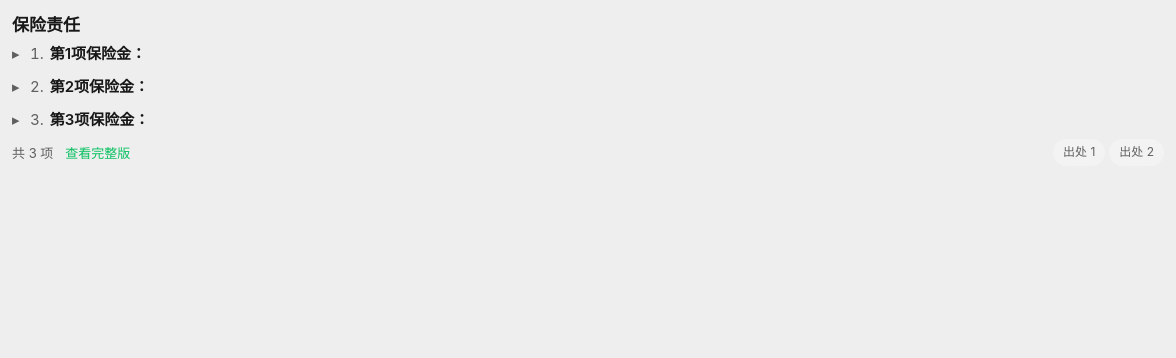
Test: long numbered values › open compact with item names only and switch to the full version and back
Click the button "查看完整版" at (98, 152), box [61,143,134,162]
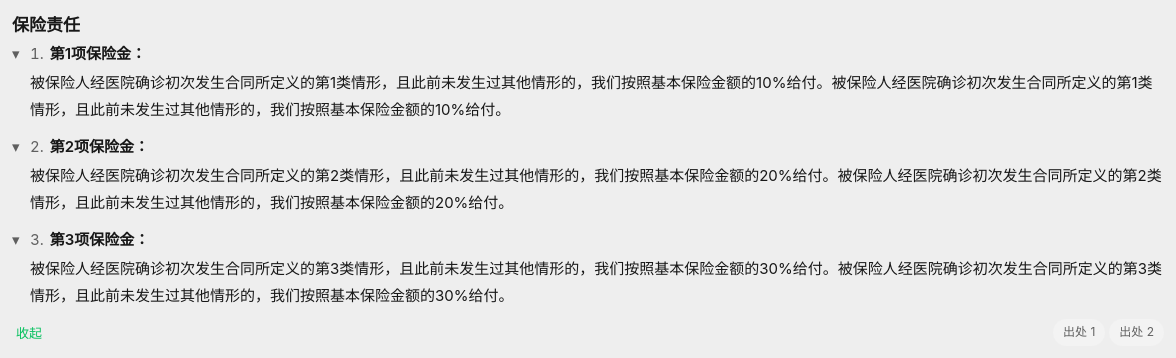
Expected: the button "收起" is shown
Expected: the button "收起" is expanded
Click the button "收起" at (29, 332), box [12,323,46,342]
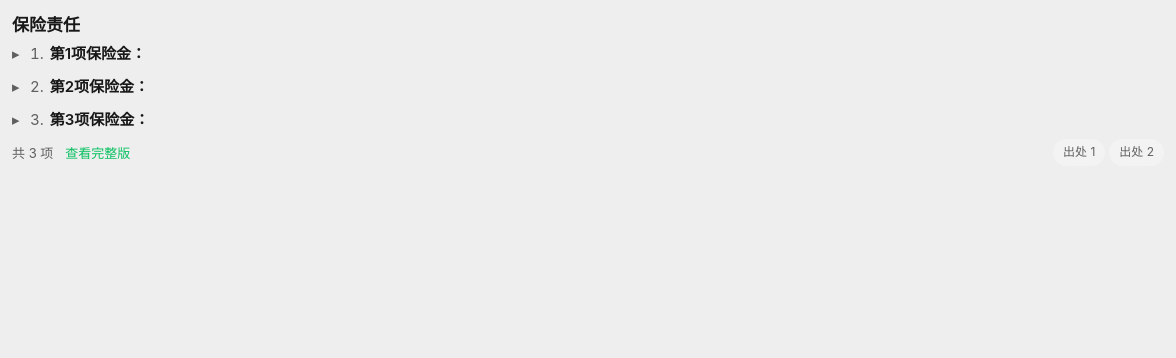
Expected: the button "查看完整版" is collapsed, [61,143,134,162]
